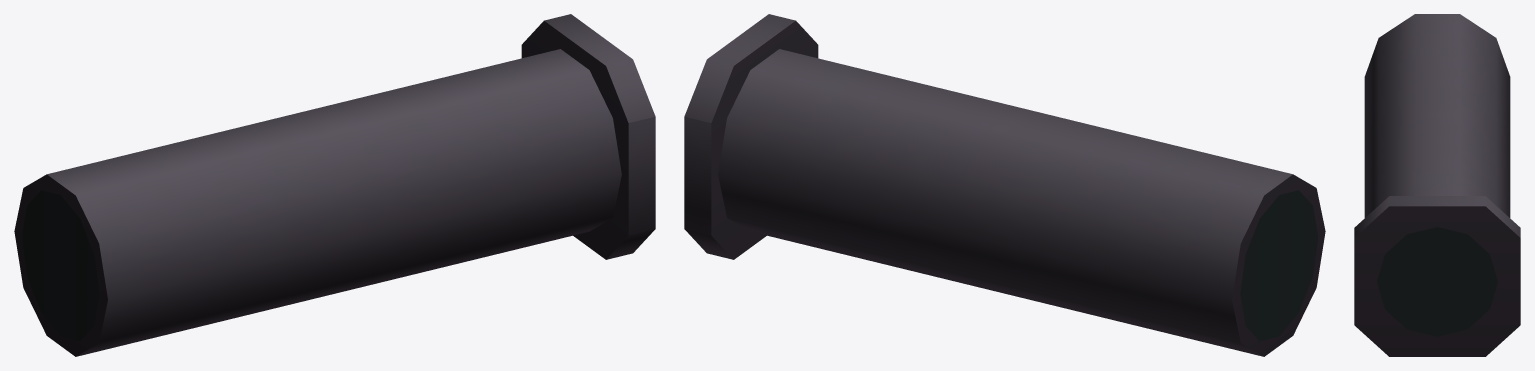
Rendered from Pipe_2D.fbx.
3 views of the same model, side by side, from view 1: azimuth 30°, elevation 25°; view 2: azimuth 150°, elevation 25°; view 3: azimuth 270°, elevation 25° (orthographic). The views are drawn at different scales.
Visible parts, largest first — view 1: Pipe_2D; view 2: Pipe_2D; view 3: Pipe_2D.
Boxes of the visible parts, left/top/right/bottom form: Pipe_2D: left=14, top=14, right=655, bottom=356; Pipe_2D: left=684, top=14, right=1325, bottom=356; Pipe_2D: left=1354, top=14, right=1520, bottom=356.
Bounding box in the file's own units: 4.01 × 1.37 × 1.37.
